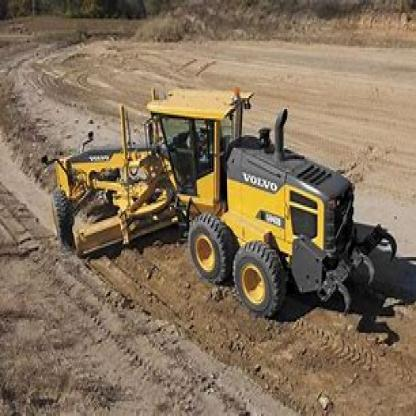bull_dozer/loader/grader: (37, 78, 390, 346)
